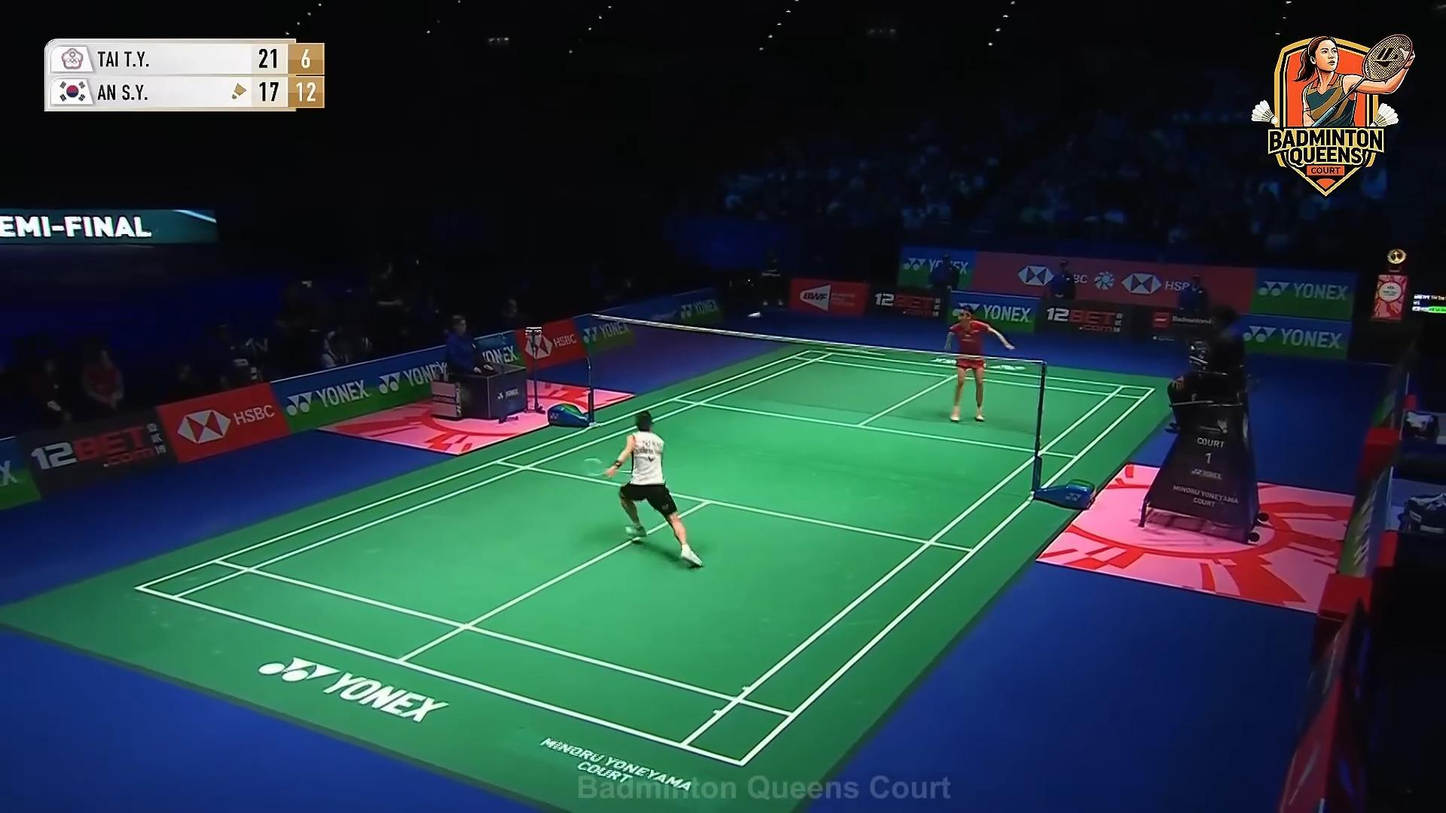shuttlecock: (748, 310, 763, 319)
